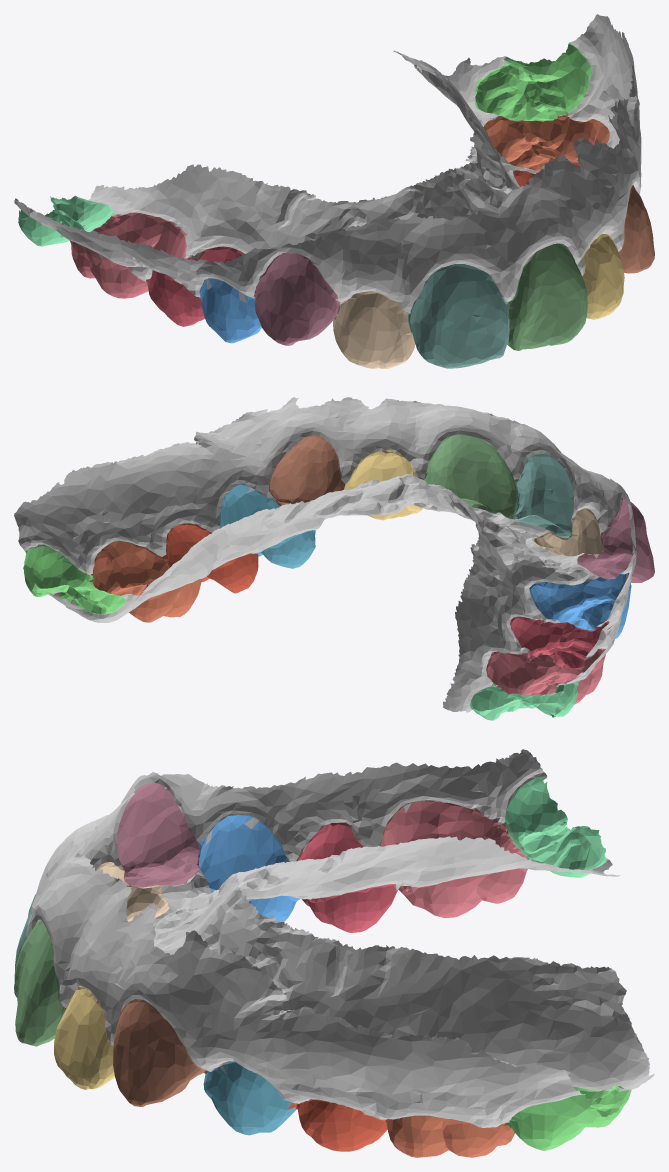
Rendered from ID100022_UPPER.obj.
3 renders of one model, top to bottom at view 1: azimuth 30°, elevation 25°; view 2: azimuth 150°, elevation 25°; view 3: azimuth 270°, elevation 25°, orthographic. The views are drawn at different scales.
Visible parts, largest first — view 1: pred_ID10022_LOWER.001; view 2: pred_ID10022_LOWER.001; view 3: pred_ID10022_LOWER.001.
Part boxes in pixels (bbox=[...]): pred_ID10022_LOWER.001: bbox=[14, 14, 654, 368]; pred_ID10022_LOWER.001: bbox=[14, 397, 654, 720]; pred_ID10022_LOWER.001: bbox=[14, 749, 654, 1157].
Bounding box in the file's own units: 67.55 × 17.53 × 51.87.
